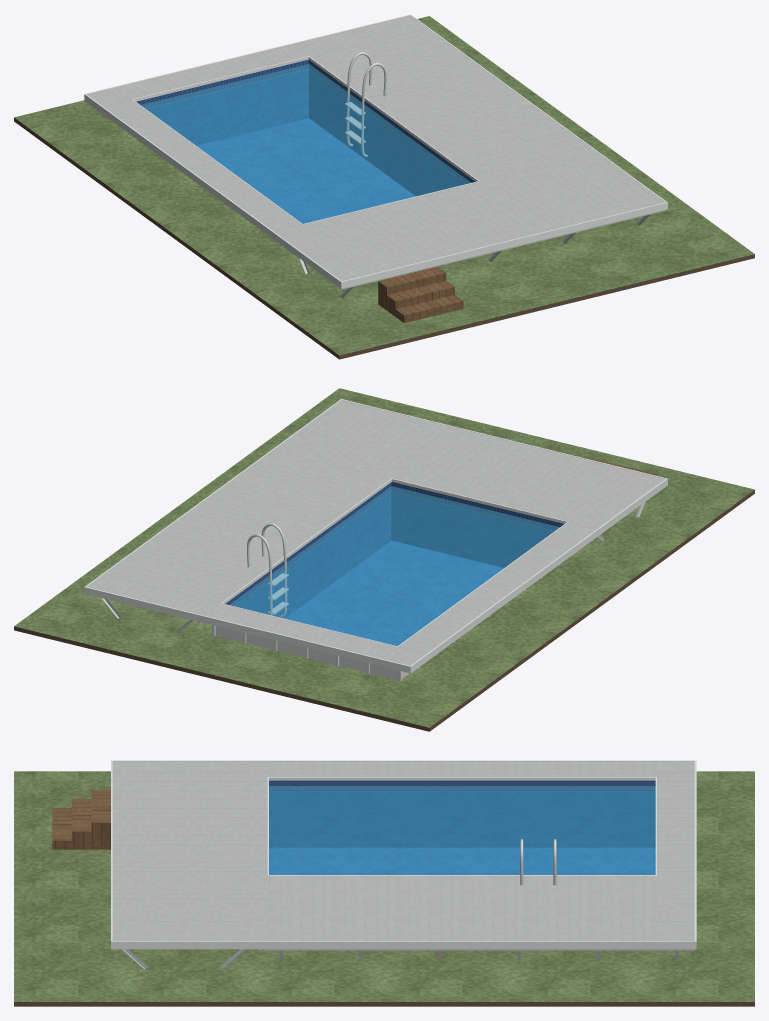
Rendered from kayak-pool-12x20-white-endside-rec-nofence.b6e4a0ca8b.glb.
3 views of the same model, one above another, from view 1: azimuth 30°, elevation 25°; view 2: azimuth 150°, elevation 25°; view 3: azimuth 270°, elevation 25° (orthographic). The views are drawn at different scales.
Parts seen in each view (by area): view 1: deck, ground, water, liner_wall, liner_floor, fascia, soil, steps, steel, stud; view 2: deck, ground, water, liner_wall, liner_floor, fascia, soil, wall, steel; view 3: deck, ground, water, liner_wall, liner_floor, fascia, soil, steps, stud.
Boxes of the visible parts, <box> form: deck: <box>87,15,665,281</box>; ground: <box>14,16,754,355</box>; water: <box>141,64,471,223</box>; liner_wall: <box>136,59,475,196</box>; liner_floor: <box>196,118,415,223</box>; fascia: <box>84,14,667,288</box>; soil: <box>14,117,754,359</box>; steps: <box>378,266,463,323</box>; steel: <box>345,52,386,157</box>; stud: <box>276,209,665,298</box>; deck: <box>87,400,664,665</box>; ground: <box>14,388,754,727</box>; water: <box>229,486,559,645</box>; liner_wall: <box>225,482,563,618</box>; liner_floor: <box>285,540,503,645</box>; fascia: <box>84,399,667,673</box>; soil: <box>14,490,754,731</box>; wall: <box>215,626,409,679</box>; steel: <box>247,523,288,617</box>; deck: <box>112,761,694,940</box>; ground: <box>14,771,754,1001</box>; water: <box>269,786,655,874</box>; liner_wall: <box>269,780,655,847</box>; liner_floor: <box>269,847,655,874</box>; fascia: <box>111,760,696,949</box>; soil: <box>14,1002,754,1006</box>; steps: <box>52,790,110,849</box>; stud: <box>112,949,694,969</box>.
Size of the model in its own units: 8.53 by 1.9 by 11.57.
Materials: 12 (5 with a texture image).
